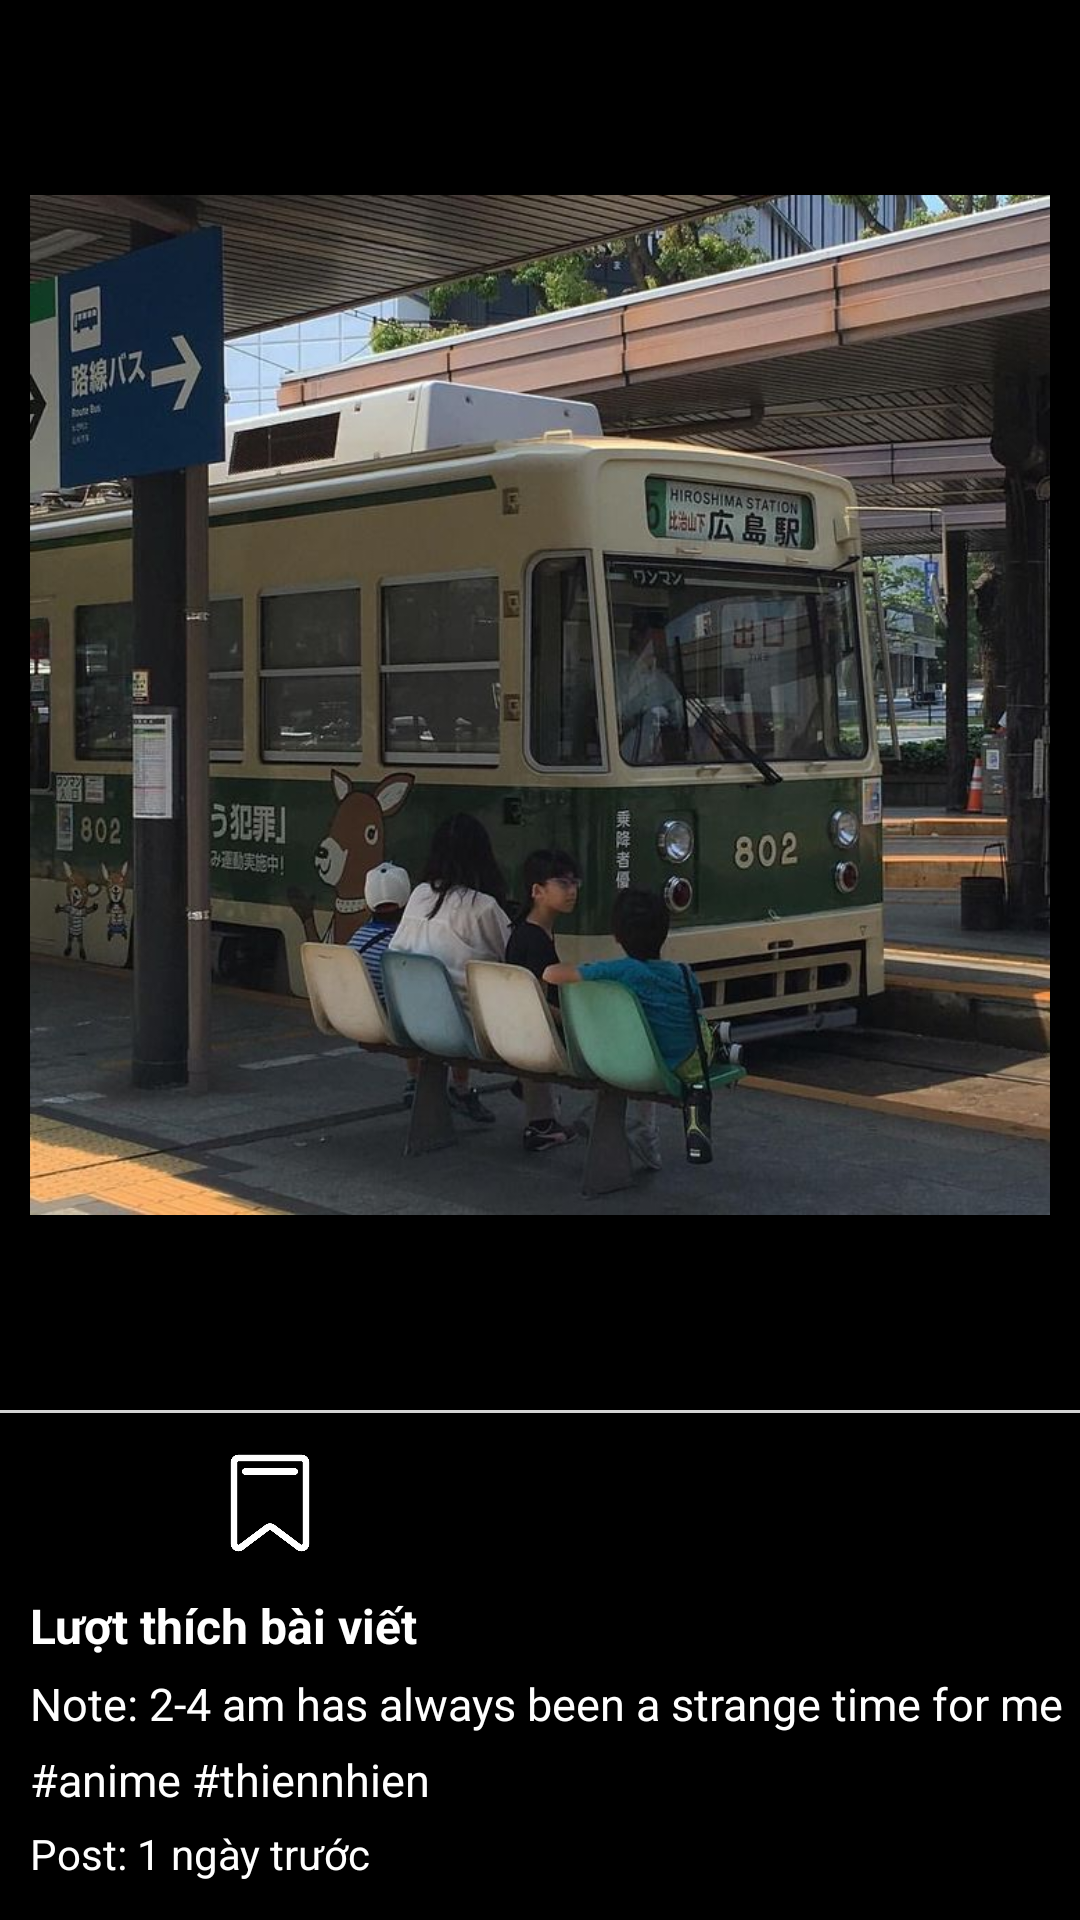

Icons on this 1080 x 1920 Android screen, each with the point to tap as point (x, y):
bookmark: point (270, 1503)
